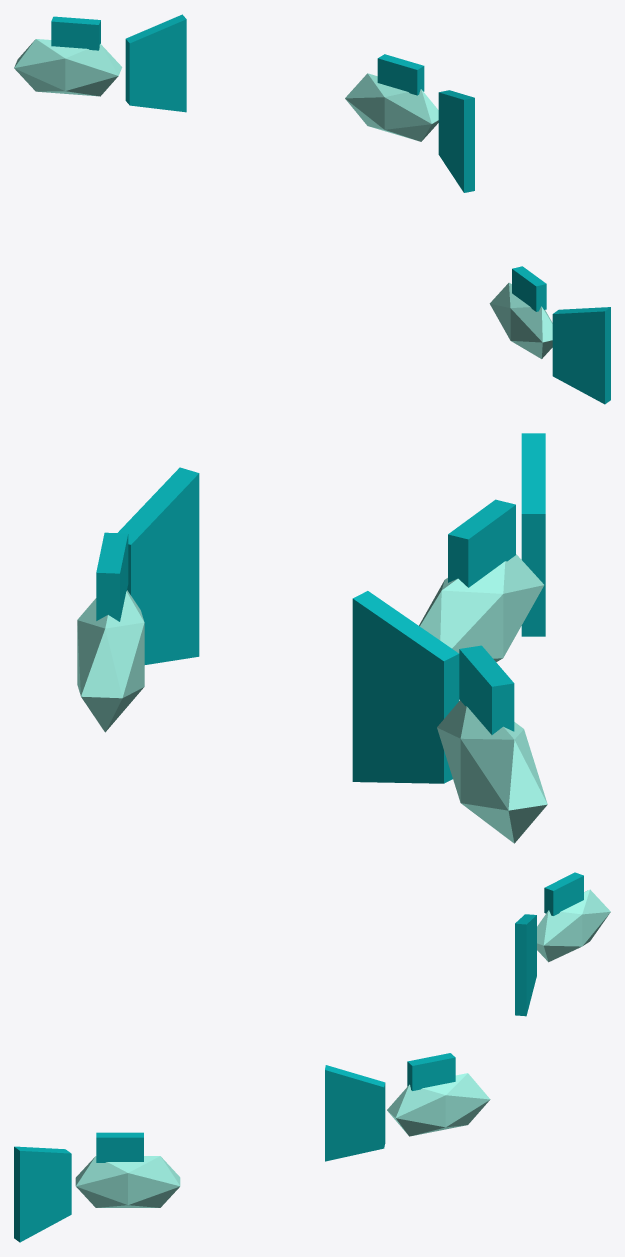
The model's file is fish.glb.
3 views of the same model, one above another, from view 1: azimuth 30°, elevation 25°; view 2: azimuth 150°, elevation 25°; view 3: azimuth 270°, elevation 25° (orthographic). The views are drawn at different scales.
Visible parts, largest first — view 1: Body2, Body1, Tail2, Tail0, Body0, Tail1; view 2: Tail2, Body2, Body0, Tail1, Body1, Tail0; view 3: Body0, Body1, Tail1, Tail0, Body2, Tail2.
Part boxes in pixels (left/top/right/bottom): Body2: left=14, top=16, right=122, bottom=96; Body1: left=345, top=54, right=438, bottom=141; Tail2: left=125, top=14, right=186, bottom=112; Tail0: left=552, top=307, right=610, bottom=404; Body0: left=489, top=266, right=552, bottom=358; Tail1: left=438, top=90, right=474, bottom=192; Tail2: left=352, top=591, right=459, bottom=783; Body2: left=437, top=645, right=547, bottom=843; Body0: left=419, top=499, right=544, bottom=662; Tail1: left=118, top=467, right=199, bottom=664; Body1: left=77, top=532, right=144, bottom=732; Tail0: left=521, top=433, right=545, bottom=636; Body0: left=75, top=1132, right=180, bottom=1207; Body1: left=387, top=1053, right=490, bottom=1136; Tail1: left=325, top=1065, right=385, bottom=1161; Tail0: left=14, top=1146, right=71, bottom=1242; Body2: left=537, top=872, right=610, bottom=962; Tail2: left=515, top=914, right=536, bottom=1016.
Bounding box in the file's own units: 1.88 × 1.31 × 3.01.
